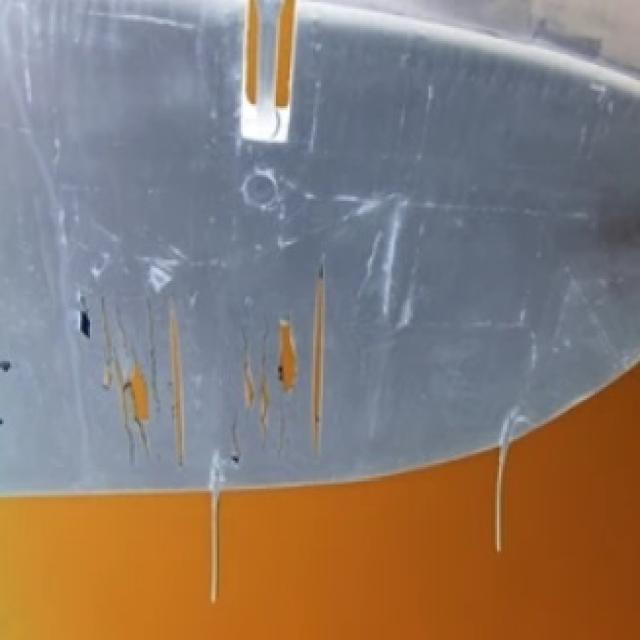crack: (87, 243, 336, 475)
